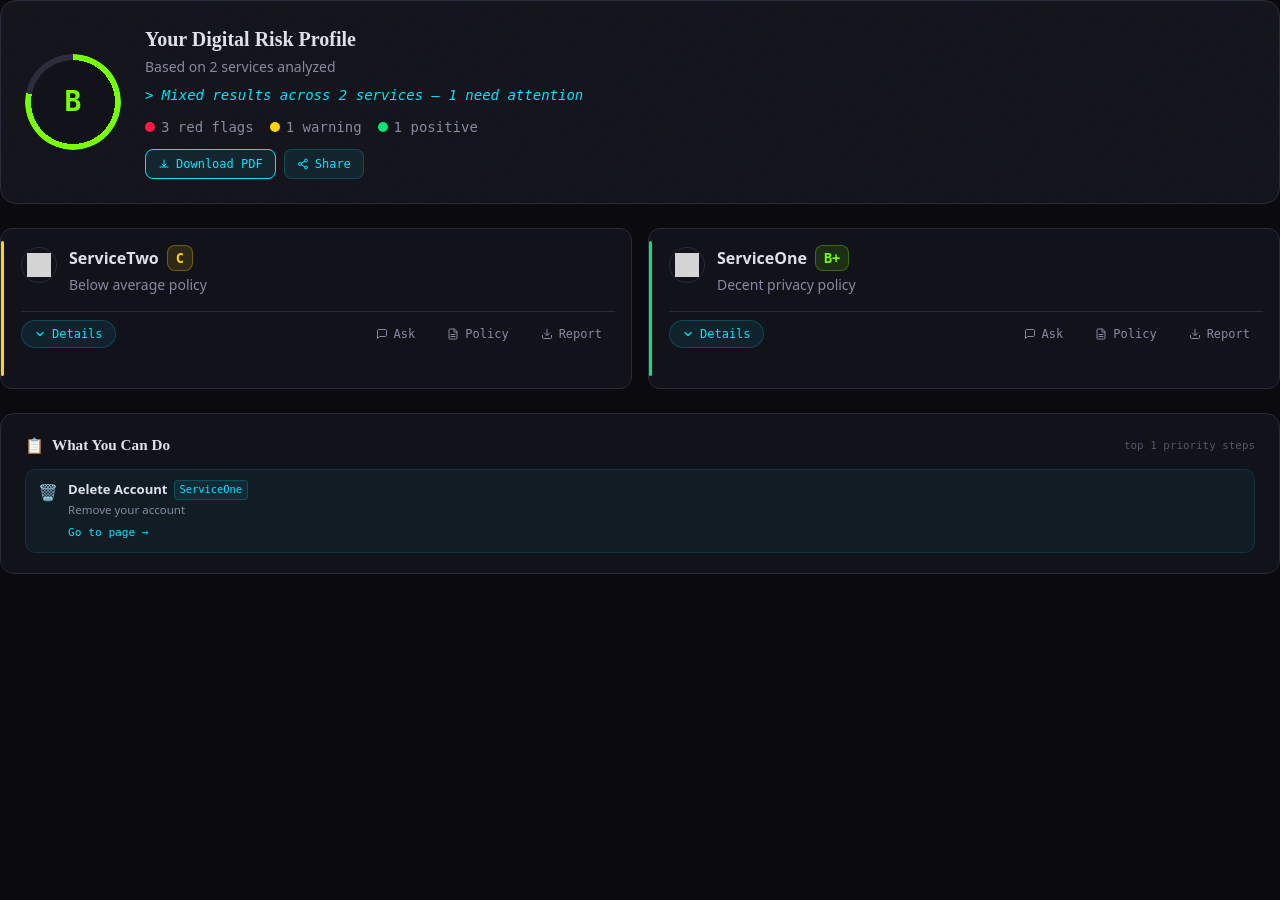
Scenario: RiskProfile › clicking Share button opens modal with correct URL
Click the button with test id "share-button" at (324,164), box [284,149,364,179]
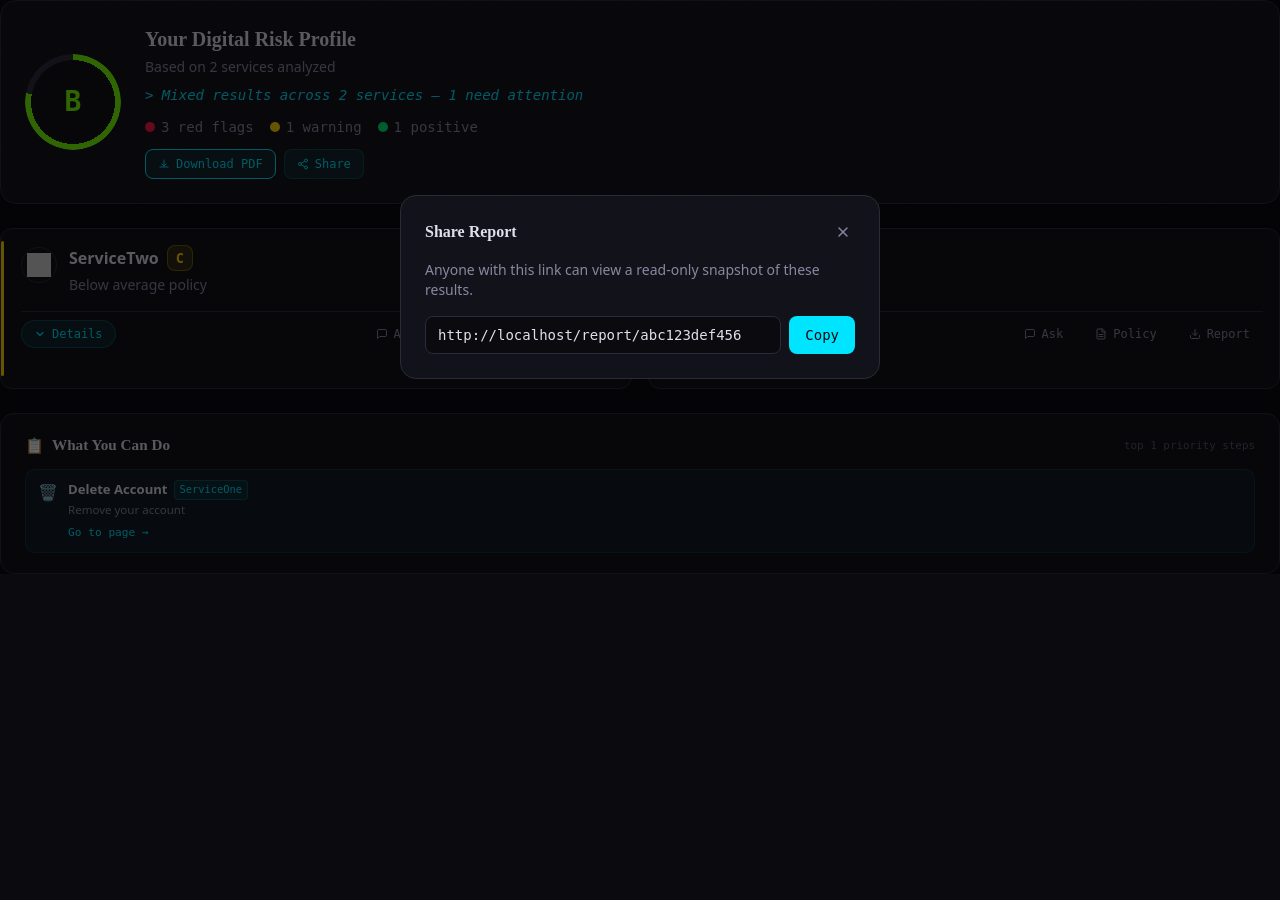
Expected: the field with test id "share-url-input" is shown, [425,316,781,354]
